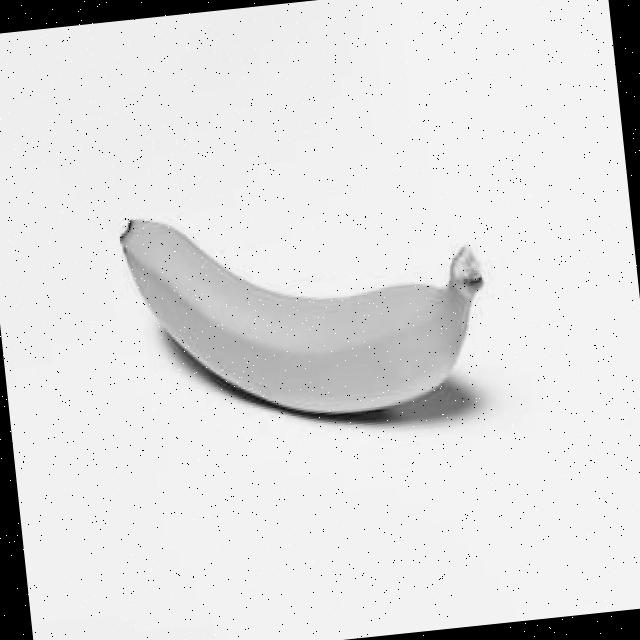Ripe: (114, 176, 501, 442)
